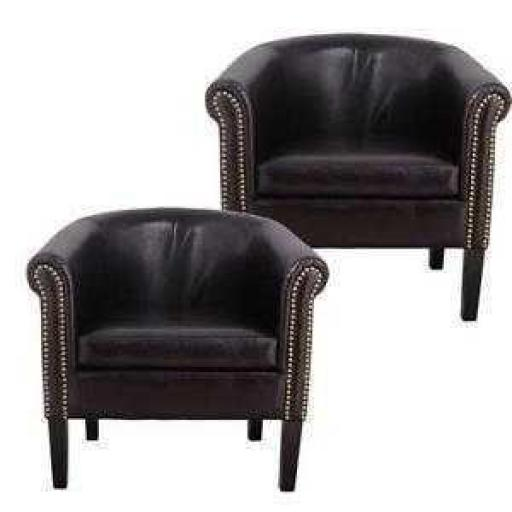chair: (20, 200, 338, 500)
